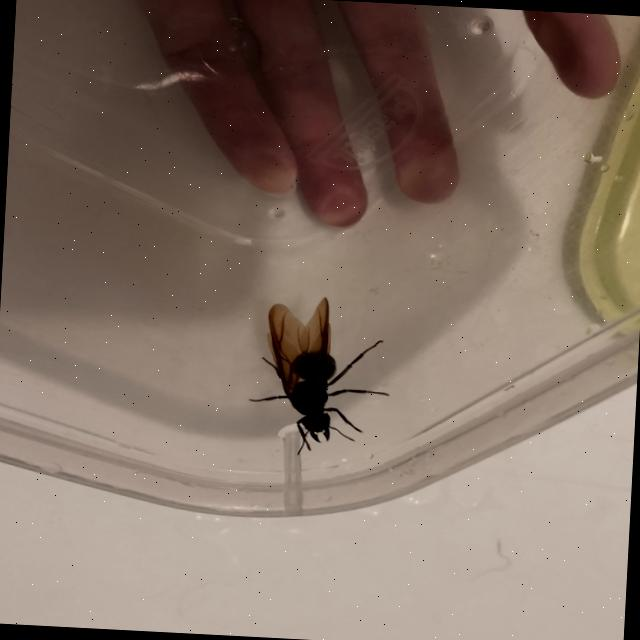Alive-Female-Alate: (245, 292, 395, 460)
